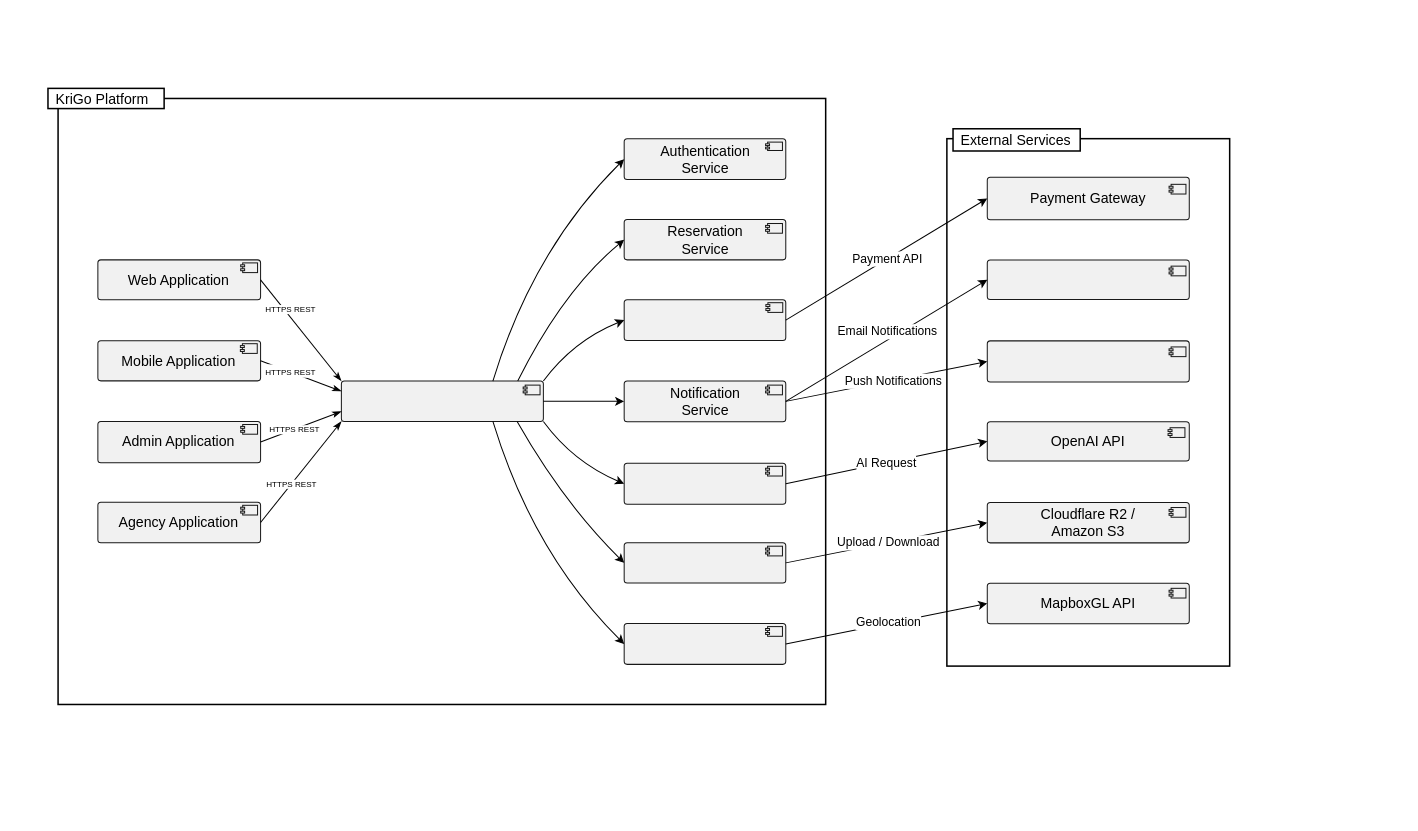
Some shapes in this 1418 by 831 pixel diagram are drawn without their labels. The shapes that lost their labels are listed below. From the top down, each one's centre as x and y in pixels, then its label:
At point (1087, 279): "SMTP Email Service".
At point (704, 320): "Payment Service".
At point (1087, 361): "Firebase Cloud Messaging".
At point (441, 400): "NestJS Backend API".
At point (704, 483): "AI Services".
At point (704, 562): "Storage Service".
At point (704, 643): "Location Service".
